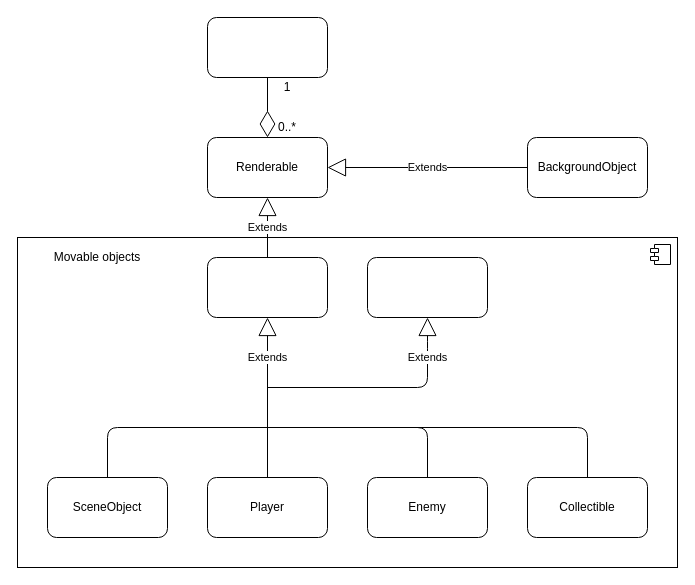
This 695x585 diagram has some shape labels left out. Here are the shapes that lost their labels. From the top down, the centre of each, then its label:
At (x=267, y=47): "Game".
At (x=267, y=287): "GameObject".
At (x=427, y=287): "GeometryHandler".
